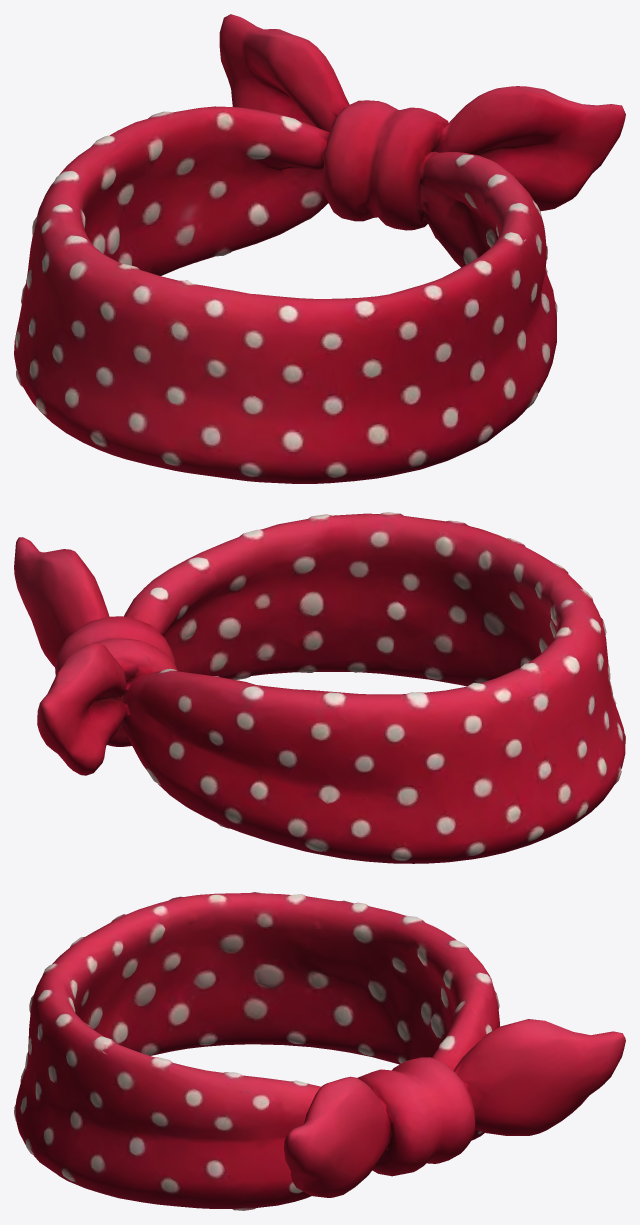
Rendered from cs-rock-bandana.glb.
3 views of the same model, one above another, from view 1: azimuth 30°, elevation 25°; view 2: azimuth 150°, elevation 25°; view 3: azimuth 270°, elevation 25° (orthographic). The views are drawn at different scales.
Visible parts, largest first — view 1: tripo_node_1da6ce91-cfab-4897-99d2-14dfcb270c6c; view 2: tripo_node_1da6ce91-cfab-4897-99d2-14dfcb270c6c; view 3: tripo_node_1da6ce91-cfab-4897-99d2-14dfcb270c6c.
Part boxes in pixels (x1,y1,x2,y2): tripo_node_1da6ce91-cfab-4897-99d2-14dfcb270c6c: (14, 14, 625, 483); tripo_node_1da6ce91-cfab-4897-99d2-14dfcb270c6c: (14, 512, 625, 863); tripo_node_1da6ce91-cfab-4897-99d2-14dfcb270c6c: (14, 892, 625, 1210).
Size of the model in its own units: 1 by 0.3223 by 0.9901.
1 material, 1 textured.
